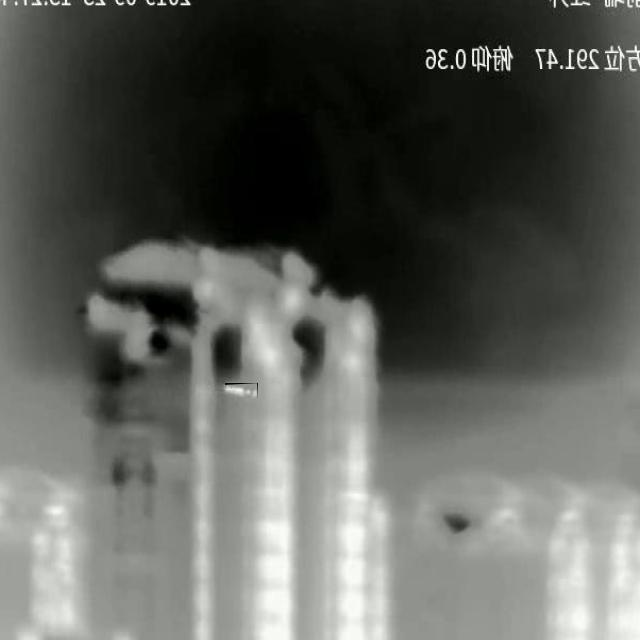drone: (225, 385, 258, 398)
